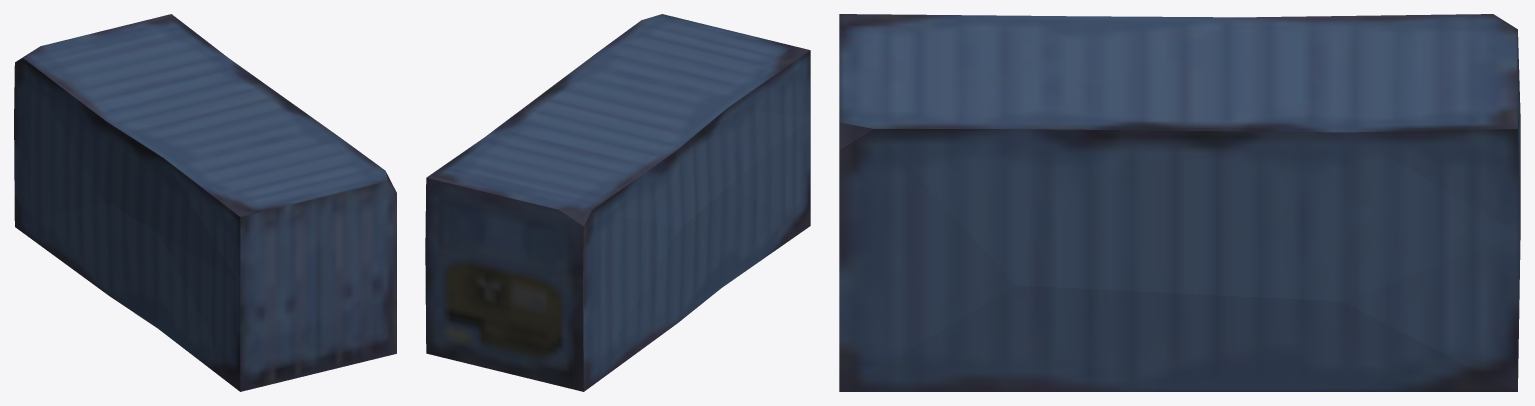
File: 集装箱3.glb
The picture shows the model from 3 angles, left to right: view 1: azimuth 30°, elevation 25°; view 2: azimuth 150°, elevation 25°; view 3: azimuth 270°, elevation 25°; orthographic projection. The views are drawn at different scales.
Parts seen in each view (by area): view 1: 集装箱1; view 2: 集装箱1; view 3: 集装箱1.
Boxes of the visible parts, x1,y1,x2,y2 form: 集装箱1: [14, 14, 396, 391]; 集装箱1: [425, 14, 810, 391]; 集装箱1: [839, 14, 1520, 391].
Bounding box in the file's own units: 2.95 × 3.02 × 7.1.
1 material, 1 textured.
